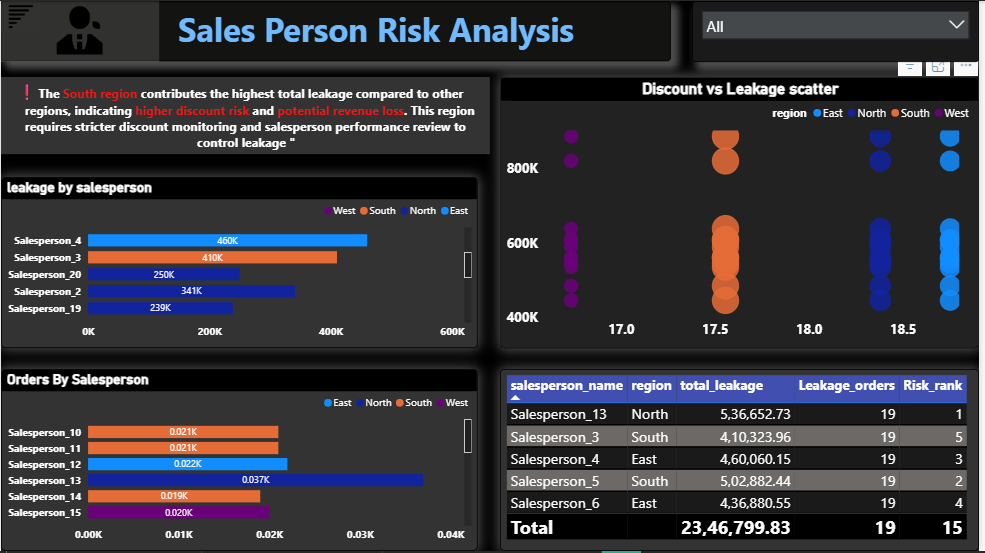

What the dashboard file says about the page in this screenshot:
{"tool":"powerbi","page":{"name":"Sales Person Risk Analysis","canvas":[1280,720],"ordinal":1},"visuals":[{"type":"clusteredBarChart","title":"leakage by salesperson","fields":{"Category":["clean_salesperson_risk_summary.salesperson_name"],"Y":["Sum(clean_salesperson_risk_summary.total_leakage)"],"Series":["clean_salesperson_risk_summary.region"]},"box":[0,280,525.2,201.7],"z":0},{"type":"barChart","title":"Orders By Salesperson","fields":{"Category":["clean_salesperson_risk_summary.salesperson_name"],"Y":["Sum(clean_salesperson_risk_summary.leakage_orders)"],"Series":["clean_salesperson_risk_summary.region"]},"box":[0,494.7,524.6,205.9],"z":1000},{"type":"scatterChart","title":"Discount vs Leakage scatter","fields":{"X":["clean_salesperson_leakage_performance.Avg Discount %"],"Y":["clean_monthly_price_leakage_2024.total_leakage"],"Size":["Sum(clean_salesperson_leakage_performance.total_orders)"],"Series":["clean_salesperson_leakage_performance.region"]},"box":[542.9,278.9,720.5,421.7],"z":2000},{"type":"tableEx","fields":{"Values":["clean_salesperson_risk_summary.salesperson_name","clean_salesperson_risk_summary.region","clean_salesperson_risk_summary.total_leakage","CountNonNull(clean_salesperson_leakage_performance.total_orders)","Sum(clean_salesperson_risk_summary.risk_rank)"]},"box":[0,19.4,770.8,246.5],"z":4000},{"type":"slicer","fields":{"Values":["clean_salesperson_risk_summary.region"]},"box":[785.7,19.4,478,246.5],"z":5000}]}

Visuals, with their boxes in screenshot pixels (x1, y1, x2, y2), scaled from the page's 1280x720 canvas onto the 985x553 screenshot:
"leakage by salesperson" clusteredBarChart: [x1=0, y1=215, x2=404, y2=370]
"Orders By Salesperson" barChart: [x1=0, y1=380, x2=404, y2=538]
"Discount vs Leakage scatter" scatterChart: [x1=418, y1=214, x2=972, y2=538]
tableEx - clean_salesperson_risk_summary.salesperson_name x clean_salesperson_risk_summary.region: [x1=0, y1=15, x2=593, y2=204]
slicer - clean_salesperson_risk_summary.region: [x1=605, y1=15, x2=972, y2=204]
